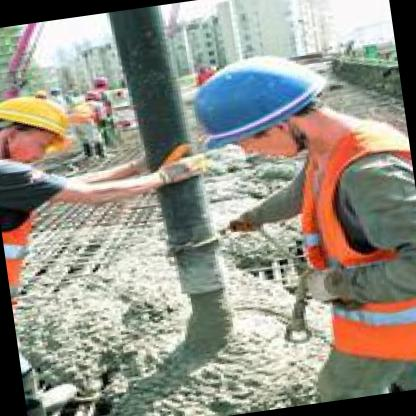helmet: (170, 32, 352, 172), (0, 83, 79, 168)
